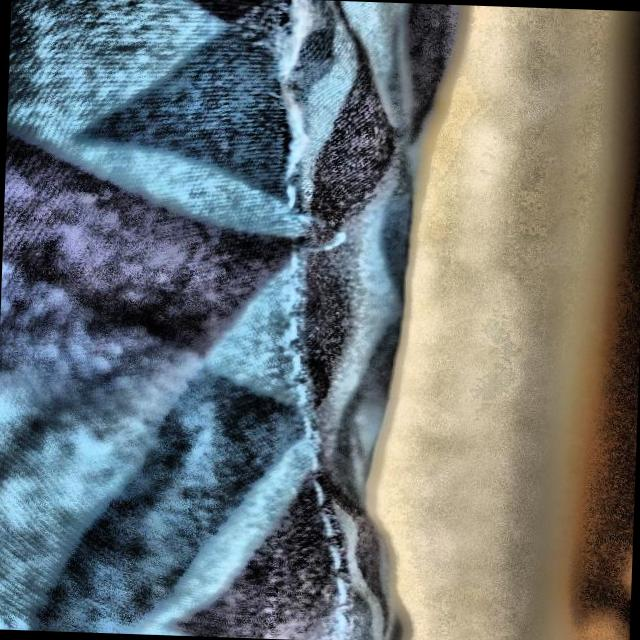gray stitch: (246, 176, 380, 328)
